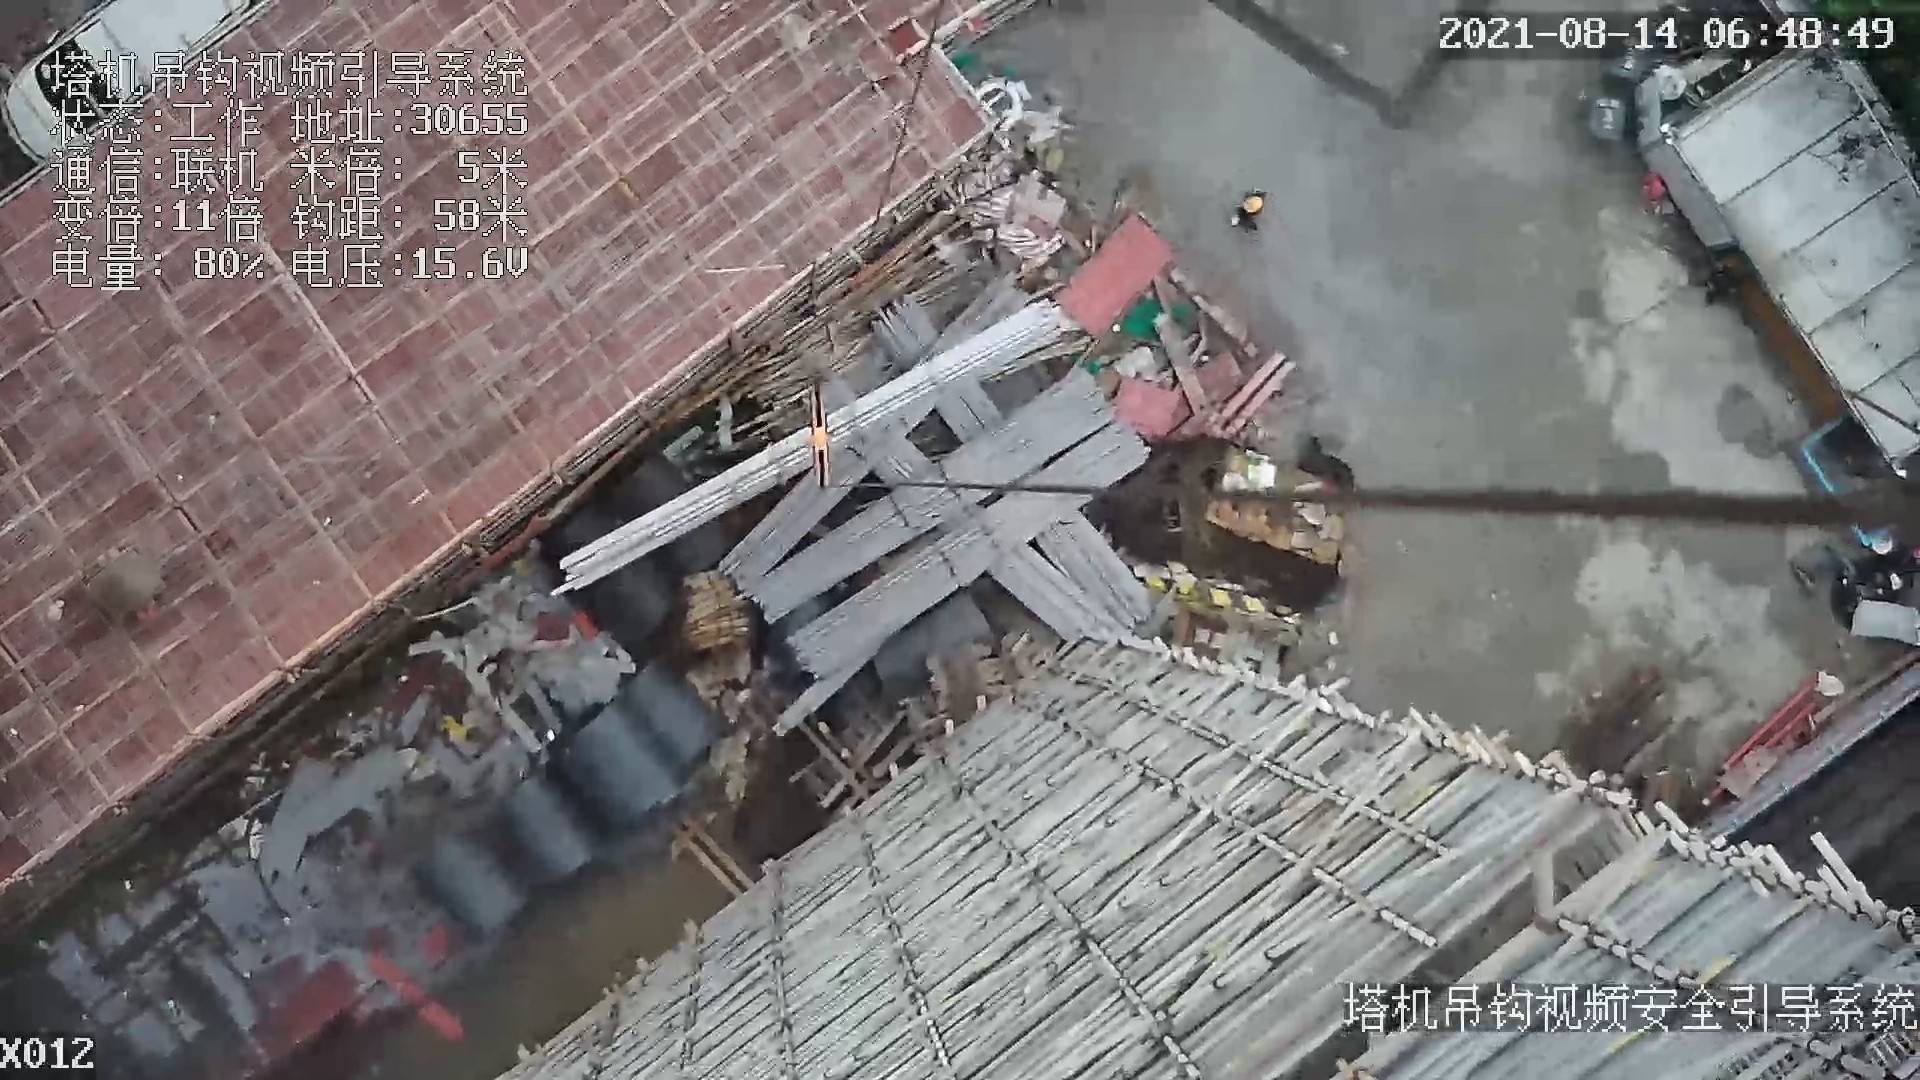helmet: (1244, 195, 1267, 220)
hook: (805, 387, 841, 489)
person: (1227, 186, 1264, 233)
